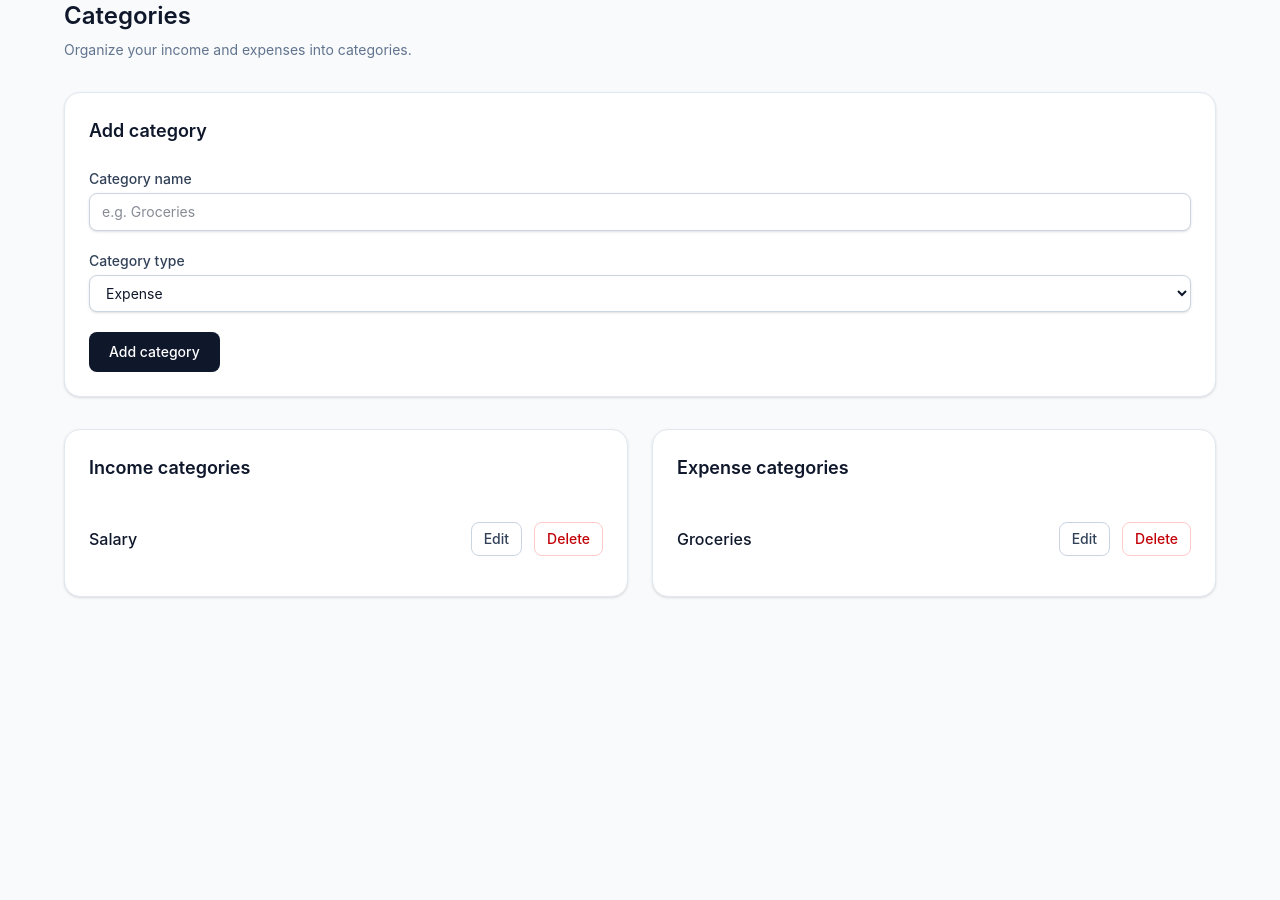
Test: CategoriesPage › keeps the edit dialog open and displays an error when updating fails
The width and height of the screenshot is (1280, 900).
Click the button "Edit" in the row of "Groceries".
click(1084, 539)  # box [1059,522,1110,556]
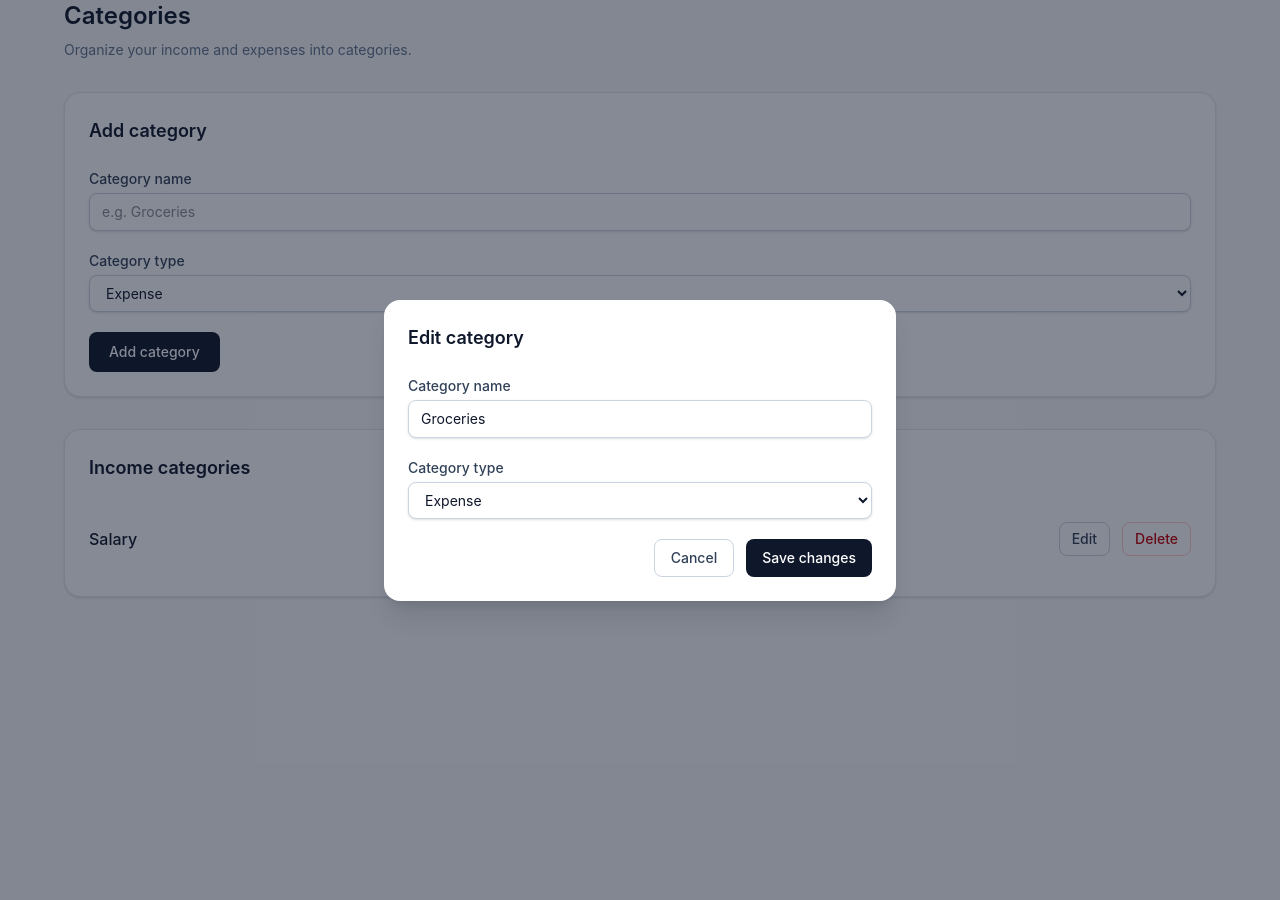
Replace the text in the field labelled "Category name" with "Food" at (640, 418), box [408,400,872,438]
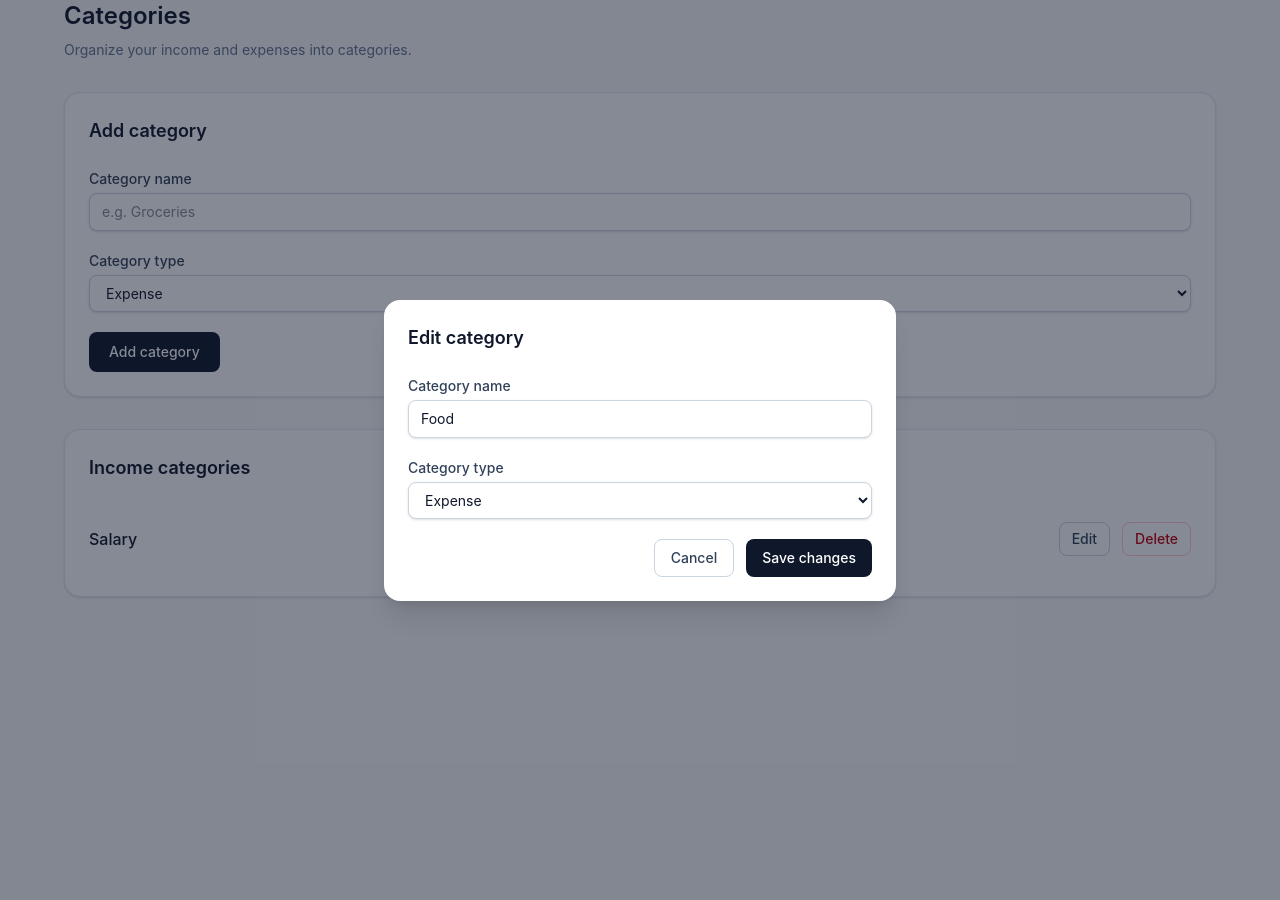
Click the button "Save changes".
click(809, 558)  # box [746,538,872,576]
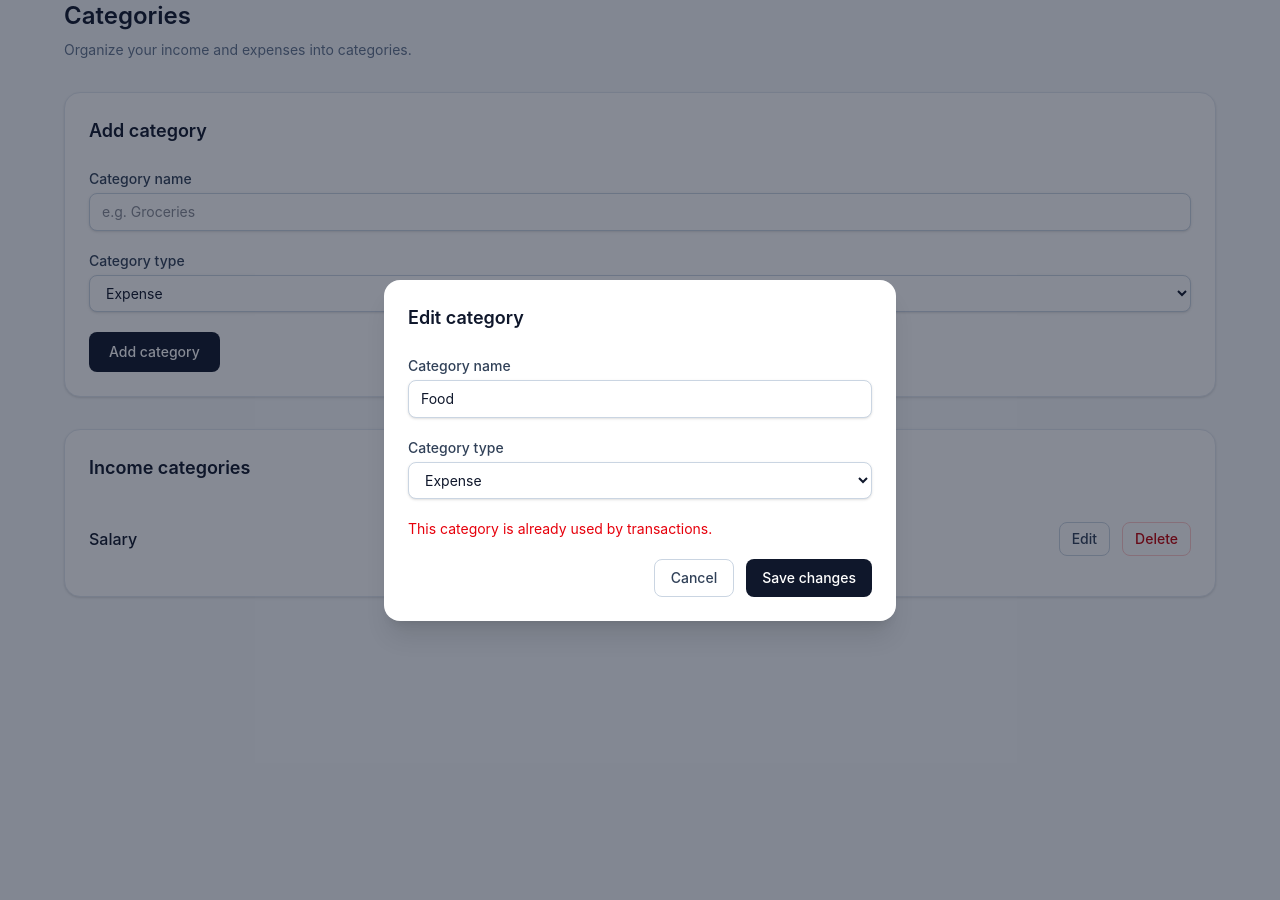
expect the dialog is shown: met, box [384,280,896,620]
expect the message reads "This category is already used by transactions.": met, box [408,520,712,536]
